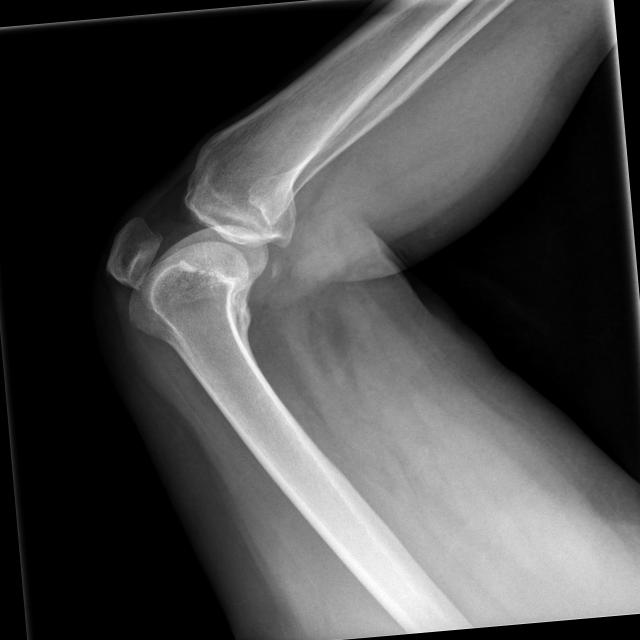Knee: (92, 146, 306, 341)
